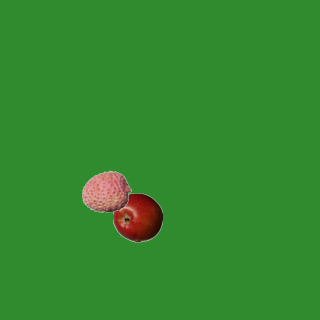Apple Braeburn: (112, 192, 162, 242)
Lychee: (81, 166, 131, 216)
